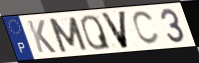3: (160, 7, 186, 45)
C: (131, 10, 161, 47)
K: (26, 19, 58, 54)
M: (47, 16, 90, 54)
Q: (79, 14, 112, 51)
V: (99, 10, 130, 50)
